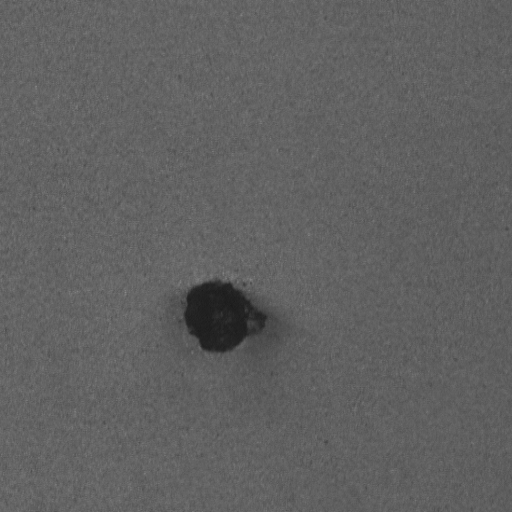aokeng: (184, 278, 268, 352)
